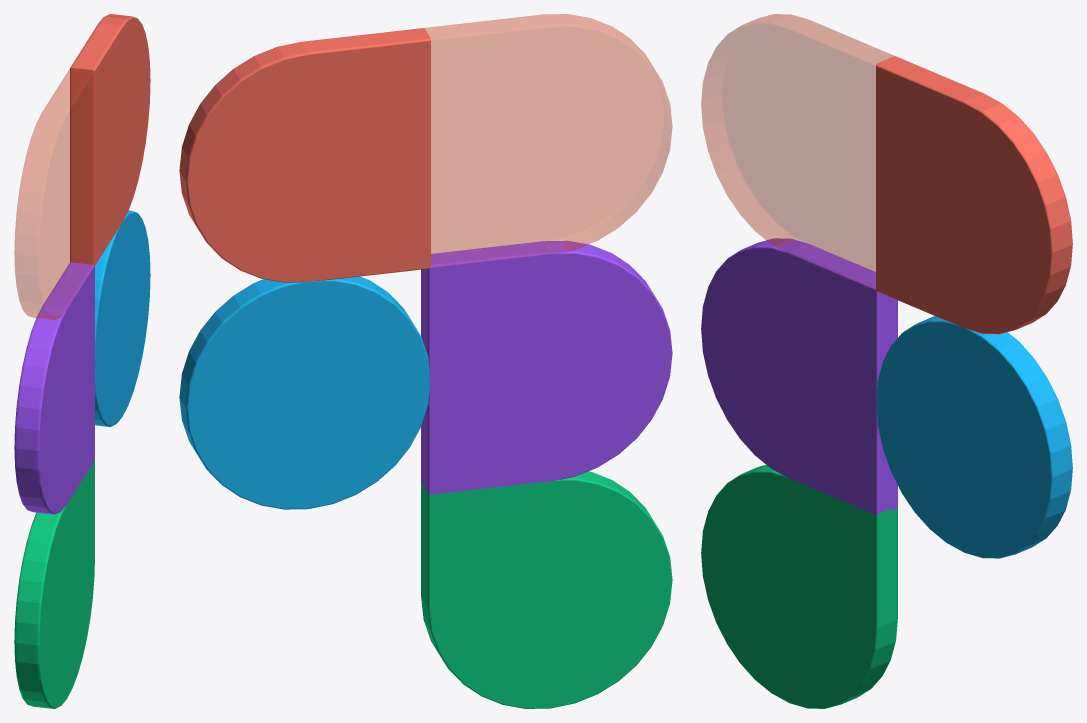
File: figmaModel.glb
The picture shows the model from 3 angles, left to right: view 1: azimuth 30°, elevation 25°; view 2: azimuth 150°, elevation 25°; view 3: azimuth 270°, elevation 25°; orthographic projection. The views are drawn at different scales.
Visible parts, largest first — view 1: Mesh_1, Mesh_3, Mesh_2, Mesh_0.001, Mesh_4; view 2: Mesh_3, Mesh_1, Mesh_2, Mesh_0.001, Mesh_4; view 3: Mesh_3, Mesh_1, Mesh_2, Mesh_0.001, Mesh_4.
Boxes of the visible parts, x1,y1,x2,y2 form: Mesh_1: [14, 262, 94, 514]; Mesh_3: [70, 14, 150, 265]; Mesh_2: [14, 68, 94, 319]; Mesh_0.001: [14, 460, 94, 708]; Mesh_4: [95, 210, 150, 426]; Mesh_3: [179, 28, 430, 282]; Mesh_1: [421, 240, 672, 494]; Mesh_2: [425, 14, 672, 267]; Mesh_0.001: [421, 471, 672, 708]; Mesh_4: [179, 276, 429, 509]; Mesh_3: [876, 56, 1072, 334]; Mesh_1: [701, 238, 897, 515]; Mesh_2: [701, 14, 894, 289]; Mesh_0.001: [701, 465, 897, 708]; Mesh_4: [876, 316, 1072, 558].
Bounding box in the file's own units: 50.46 × 101 × 50.46.
